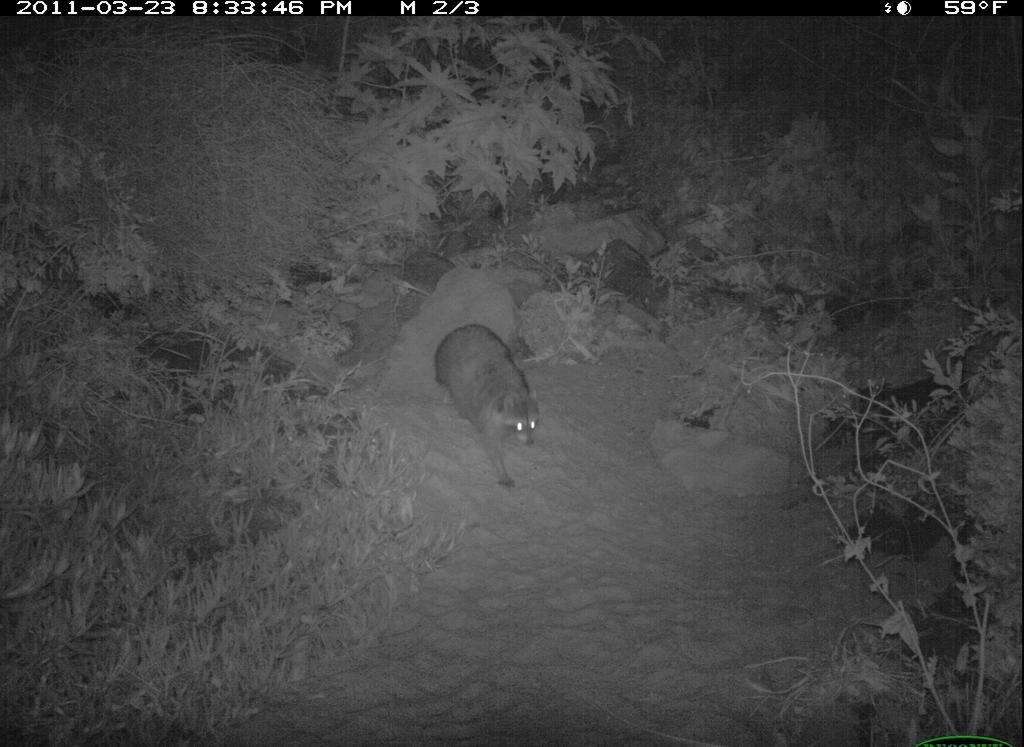raccoon: (429, 318, 555, 501)
